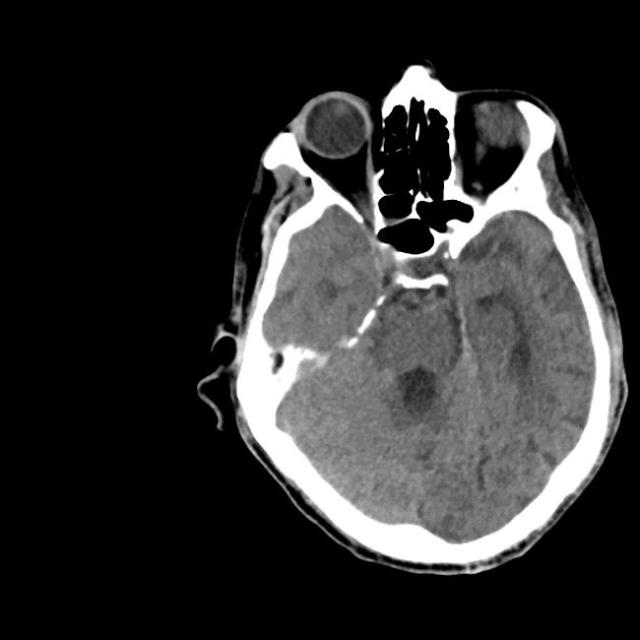lesion: (197, 60, 630, 577)
